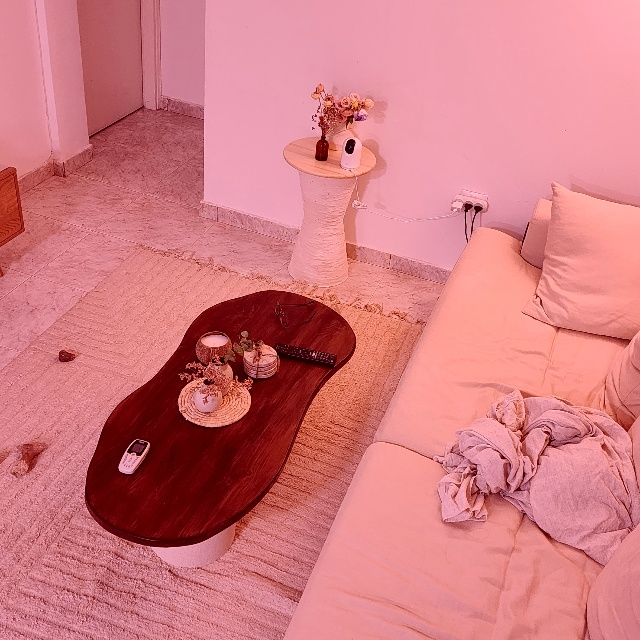glasses: (270, 297, 320, 330)
